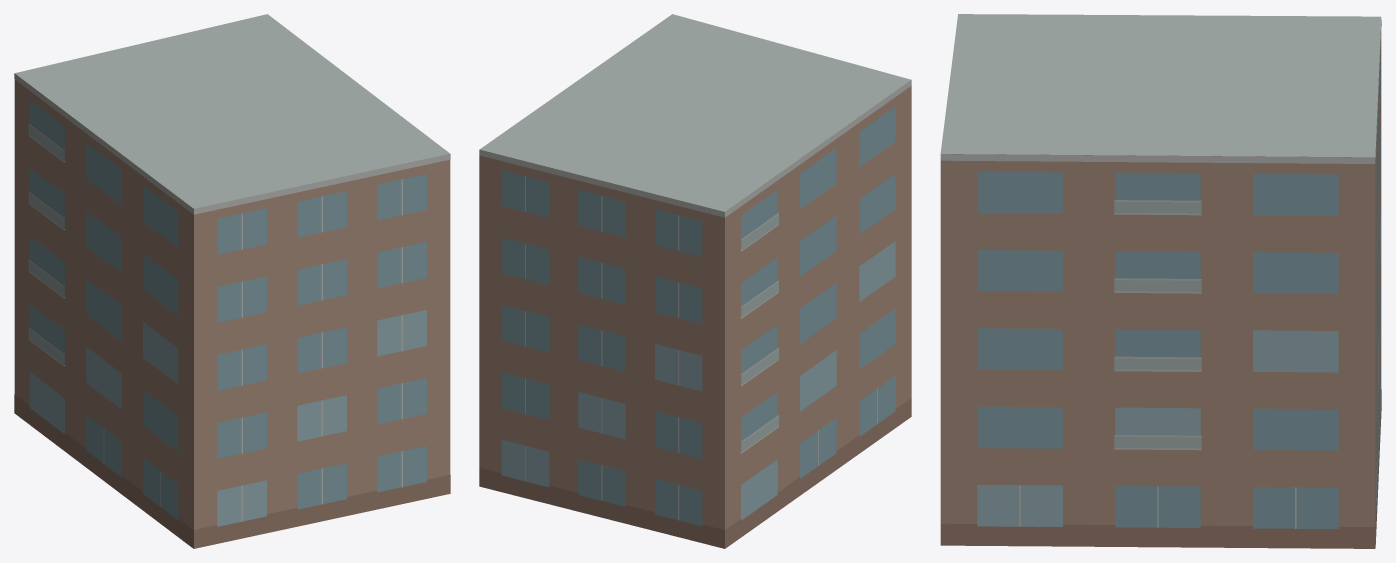
The model's file is survey-upis-32640322.glb.
3 views of the same model, side by side, from view 1: azimuth 30°, elevation 25°; view 2: azimuth 150°, elevation 25°; view 3: azimuth 270°, elevation 25° (orthographic). The views are drawn at different scales.
Parts seen in each view (by area): view 1: survey-upis-32640322.tmp; view 2: survey-upis-32640322.tmp; view 3: survey-upis-32640322.tmp.
Part boxes in pixels (box(x1,y1,x2,y2)): survey-upis-32640322.tmp: box(14, 14, 450, 548); survey-upis-32640322.tmp: box(479, 14, 911, 548); survey-upis-32640322.tmp: box(940, 14, 1381, 548).
Bounding box in the file's own units: 11.08 × 14.1 × 14.4.
